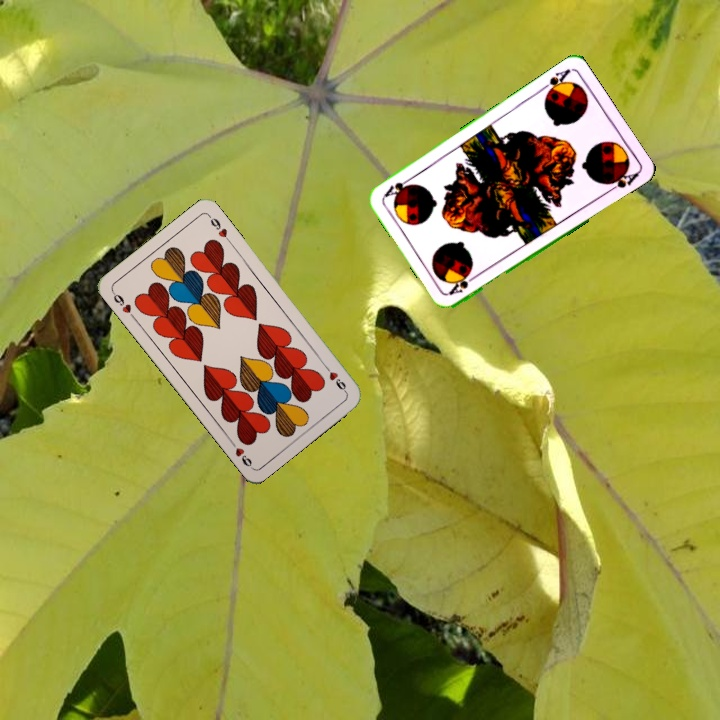H9: (108, 287, 138, 322), (320, 360, 349, 395)
SA: (536, 65, 573, 99), (445, 269, 482, 298)
